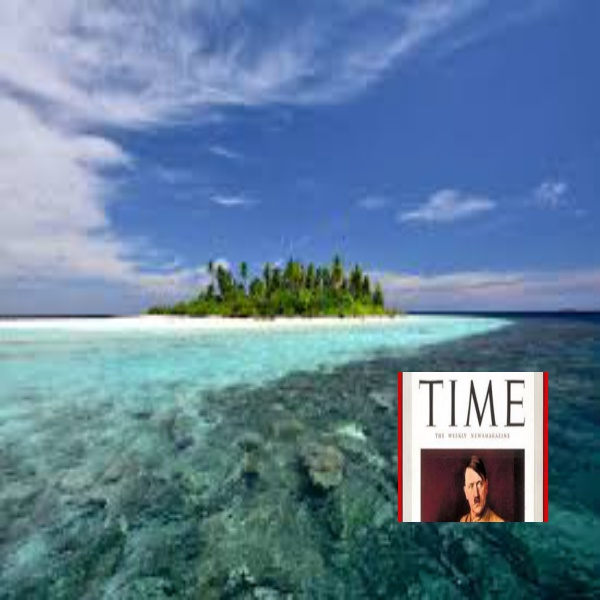time_cover: (388, 362, 555, 530)
